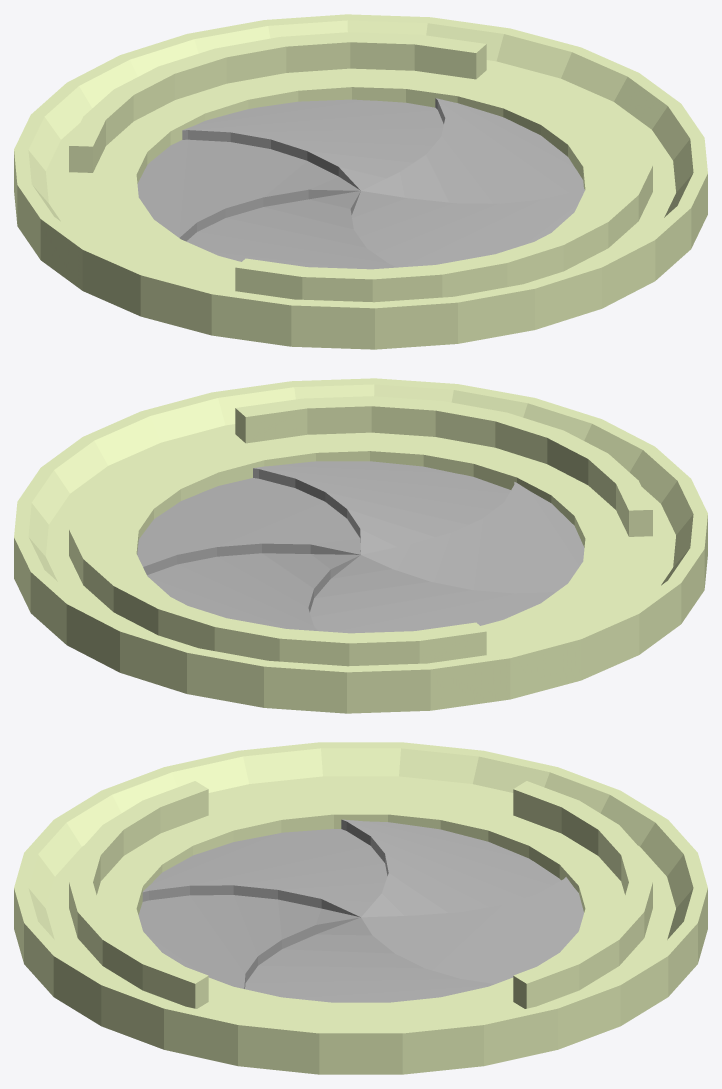
File: LargeConnector1.fbx
The picture shows the model from 3 angles, top to bottom: view 1: azimuth 30°, elevation 25°; view 2: azimuth 150°, elevation 25°; view 3: azimuth 270°, elevation 25°; orthographic projection.
Visible parts, largest first — view 1: Cylinder.046; view 2: Cylinder.046; view 3: Cylinder.046.
Part boxes in pixels (x1,y1,x2,y2): Cylinder.046: [14, 14, 707, 349]; Cylinder.046: [14, 378, 707, 713]; Cylinder.046: [14, 742, 707, 1074].
Bounding box in the file's own units: 11873 × 888 × 11960.
